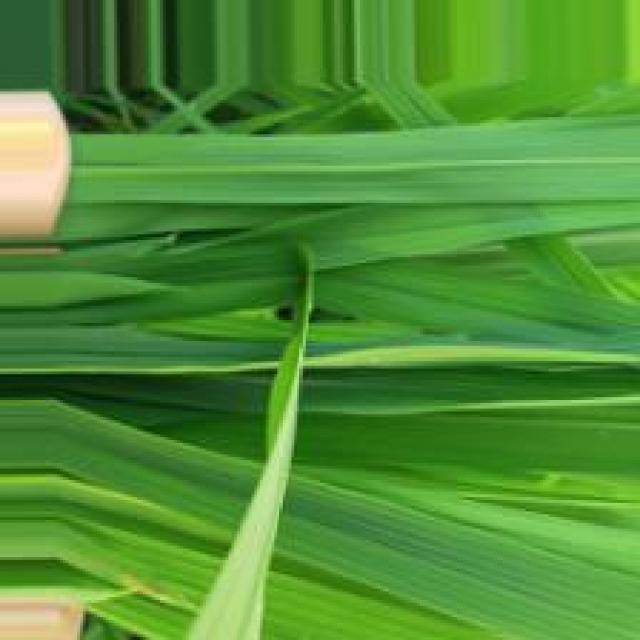HealthyLeaf: (279, 486, 632, 635), (73, 126, 622, 198), (298, 408, 637, 472), (63, 415, 252, 529), (327, 268, 625, 333), (264, 578, 460, 637), (312, 208, 473, 262), (8, 334, 201, 367)
